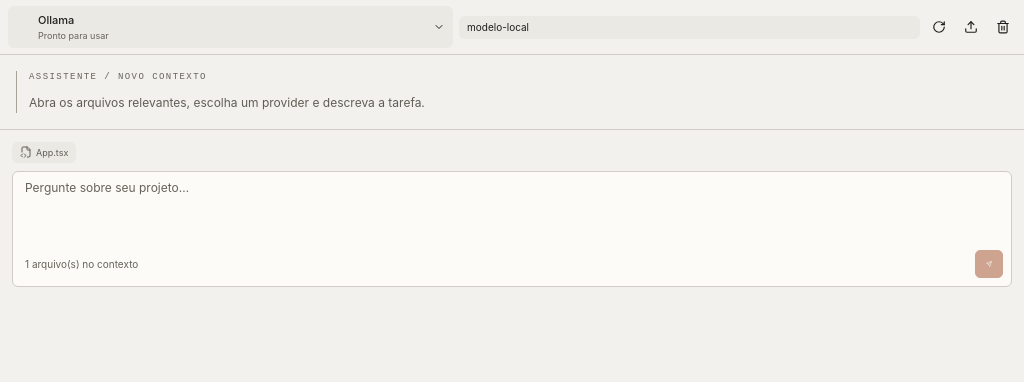
Scenario: chat do workspace › faz streaming, mostra contexto e salva o histórico
Expected: the text "App.tsx" is shown, top-left (12, 142), bottom-right (76, 163)
Type "Explique este arquivo" into the text box named "Mensagem para o chat" at (512, 212), box top-left (21, 180), bottom-right (1003, 244)
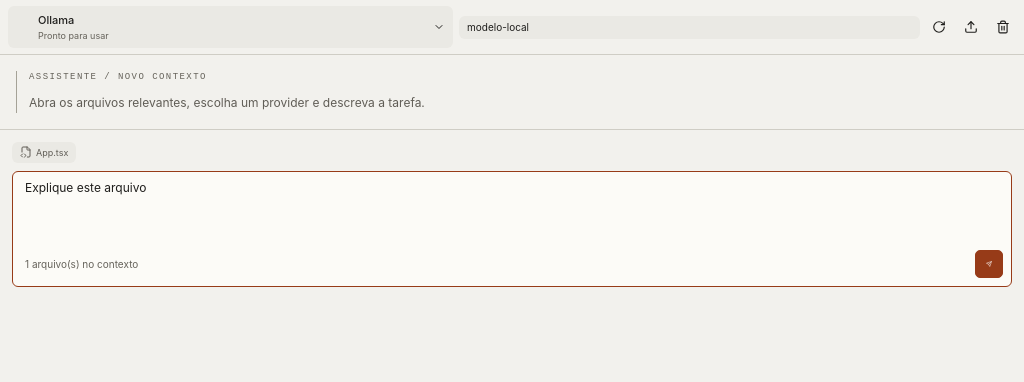
Click the button named "Enviar mensagem" at (989, 264), box top-left (975, 250), bottom-right (1003, 278)
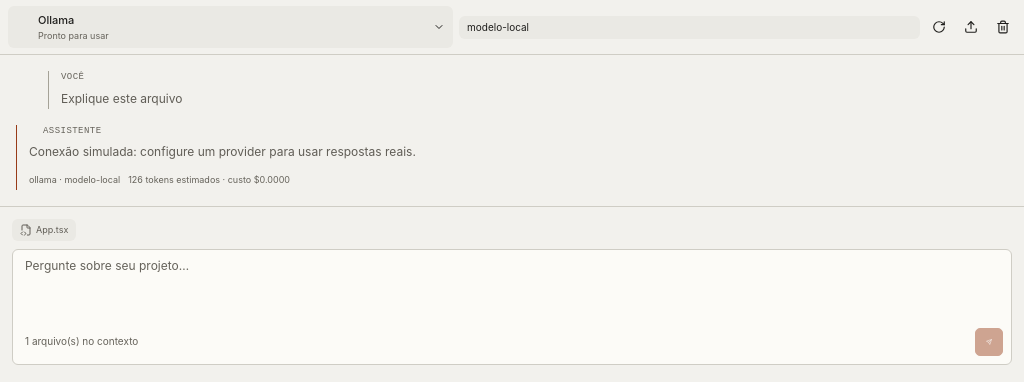
Expected: the text "Conexão simulada: configure um provider" is shown, top-left (29, 144), bottom-right (416, 159)
Expected: the text "ollama · modelo-local" is shown, top-left (29, 174), bottom-right (120, 185)
